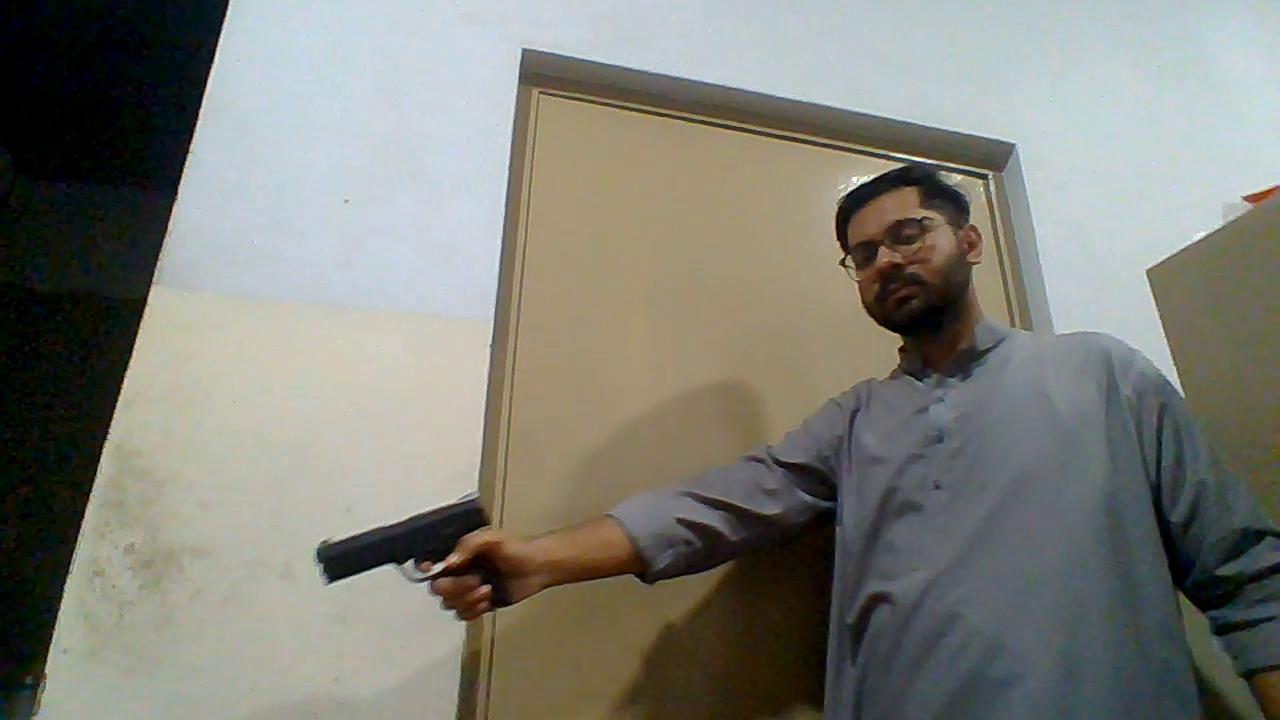criminal: (316, 162, 1280, 720)
weapon: (316, 492, 516, 606)
